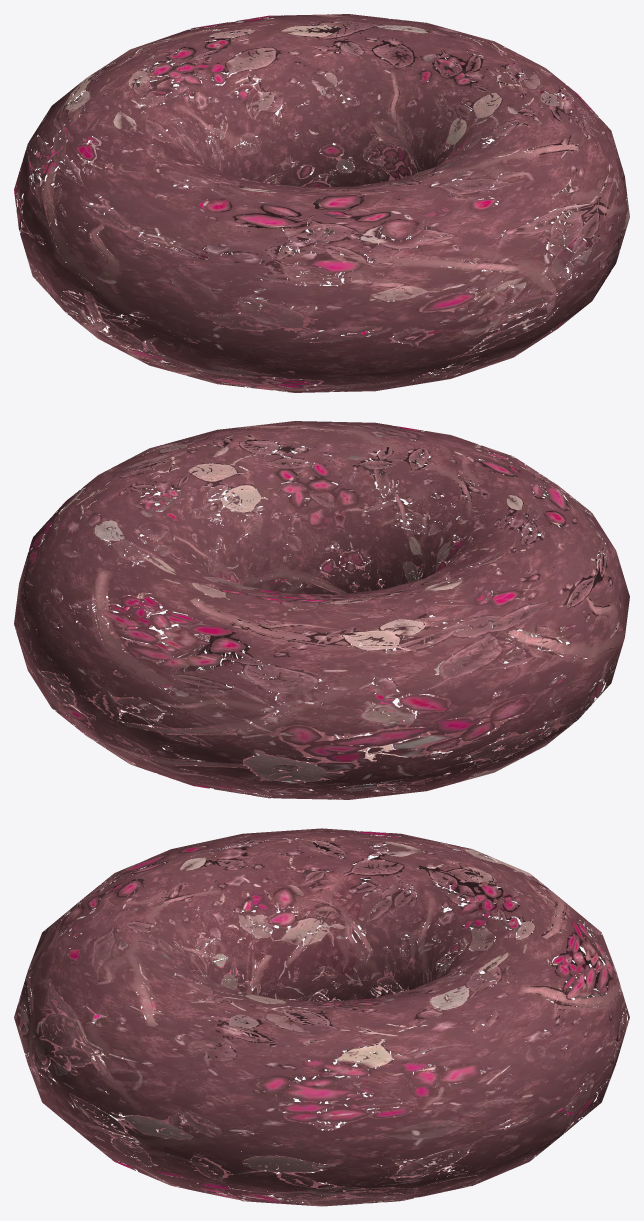
3 views of the same model, one above another, from view 1: azimuth 30°, elevation 25°; view 2: azimuth 150°, elevation 25°; view 3: azimuth 270°, elevation 25° (orthographic).
Parts seen in each view (by area): view 1: SM_Planter_UltraCompost_01_LOD0; view 2: SM_Planter_UltraCompost_01_LOD0; view 3: SM_Planter_UltraCompost_01_LOD0.
Boxes of the visible parts, x1=… form: SM_Planter_UltraCompost_01_LOD0: x1=14, y1=14, x2=629, y2=392; SM_Planter_UltraCompost_01_LOD0: x1=14, y1=421, x2=629, y2=799; SM_Planter_UltraCompost_01_LOD0: x1=14, y1=828, x2=629, y2=1206.
Bounding box in the file's own units: 1.5 × 0.5 × 1.5.
